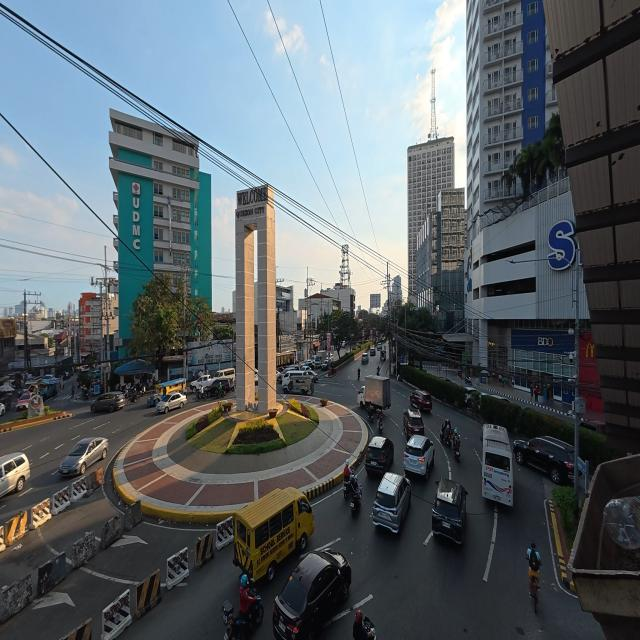car: (60, 435, 109, 477), (0, 454, 31, 500), (89, 394, 123, 416), (411, 393, 434, 416)
